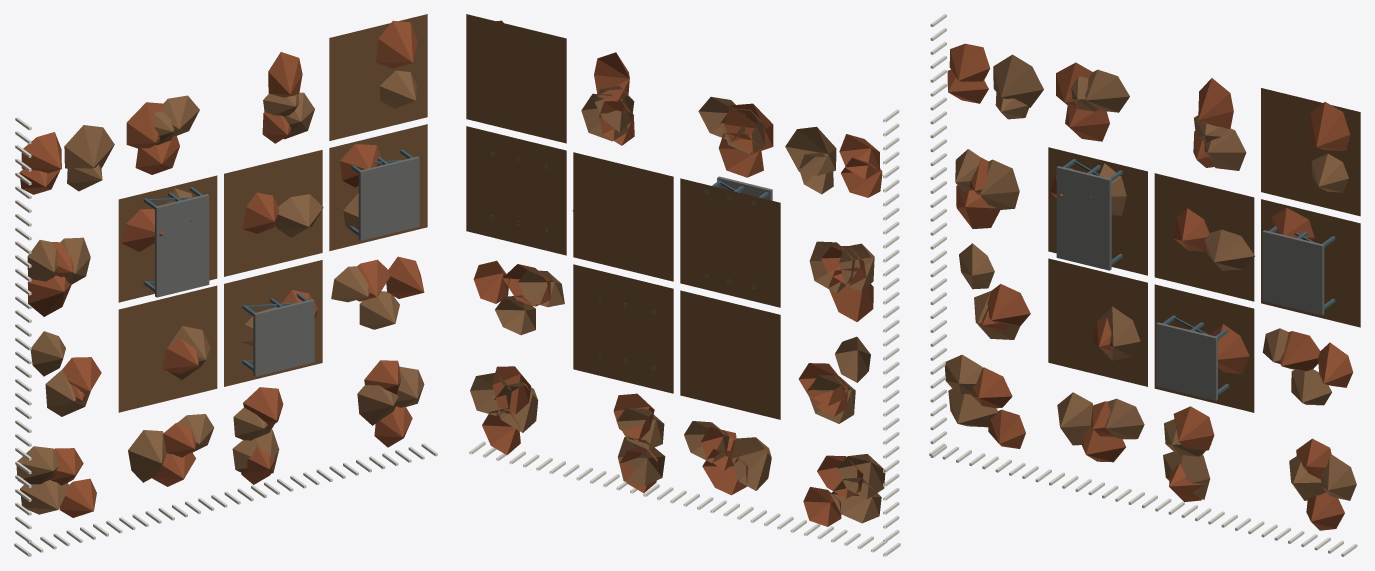
The model's file is construction_0.glb.
3 views of the same model, side by side, from view 1: azimuth 30°, elevation 25°; view 2: azimuth 150°, elevation 25°; view 3: azimuth 330°, elevation 25° (orthographic).
Parts seen in each view (by area): view 1: t12_g106, t11_g105, t33_g115, t22_g110, t21_g109, t32_g114, t00_g100, t03_g103, t10_g104, t30_g112, t20_g108, t02_g102 (+4 smaller); view 2: t12_g106, t33_g115, t22_g110, t11_g105, t21_g109, t32_g114, t00_g100, t03_g103, t10_g104, t30_g112, t02_g102, t20_g108 (+4 smaller); view 3: t12_g106, t22_g110, t21_g109, t33_g115, t11_g105, t32_g114, t00_g100, t03_g103, t10_g104, t30_g112, t20_g108, t02_g102 (+4 smaller).
Part boxes in pixels (box(x1,y1,x2,y2)): t12_g106: box(118, 175, 217, 302); t11_g105: box(118, 285, 217, 412); t33_g115: box(329, 14, 427, 140); t22_g110: box(224, 150, 323, 276); t21_g109: box(224, 260, 322, 386); t32_g114: box(329, 124, 427, 251); t00_g100: box(14, 446, 122, 556); t03_g103: box(15, 117, 114, 226); t10_g104: box(119, 414, 227, 529); t30_g112: box(329, 360, 437, 478); t20_g108: box(224, 387, 332, 504); t02_g102: box(15, 227, 90, 336); t12_g106: box(680, 176, 780, 307); t33_g115: box(466, 14, 566, 143); t22_g110: box(572, 152, 673, 281); t11_g105: box(680, 290, 780, 419); t21_g109: box(573, 264, 673, 393); t32_g114: box(466, 126, 566, 255); t00_g100: box(790, 445, 900, 556); t03_g103: box(785, 109, 899, 220); t10_g104: box(683, 421, 793, 529); t30_g112: box(469, 366, 579, 477); t02_g102: box(809, 221, 899, 332); t20_g108: box(576, 393, 686, 503); t12_g106: box(1048, 147, 1147, 275); t22_g110: box(1154, 173, 1254, 301); t21_g109: box(1154, 284, 1254, 412); t33_g115: box(1261, 88, 1360, 216); t11_g105: box(1048, 258, 1147, 386); t32_g114: box(1261, 199, 1360, 327); t00_g100: box(929, 347, 1038, 478); t03_g103: box(930, 14, 1043, 124); t10_g104: box(1035, 392, 1144, 504); t30_g112: box(1248, 438, 1357, 556); t20_g108: box(1142, 406, 1250, 530); t02_g102: box(930, 125, 1019, 235).
Size of the model in its own units: 62.88 by 63.16 by 4.44.
